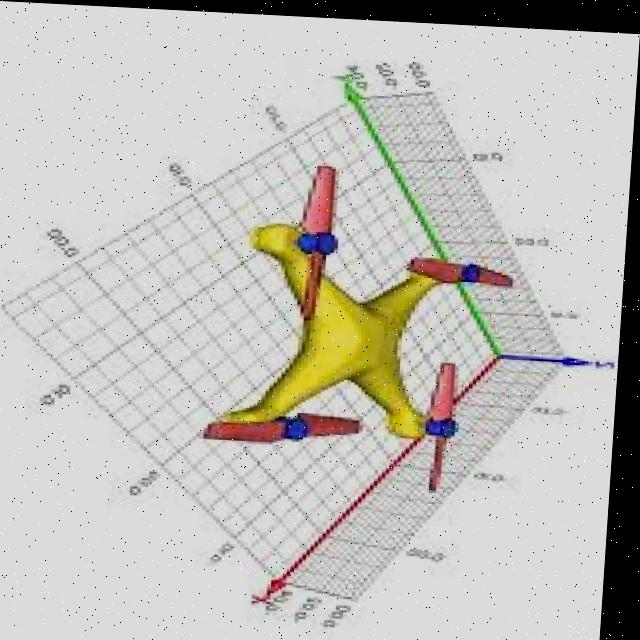drone: (200, 134, 509, 491)
